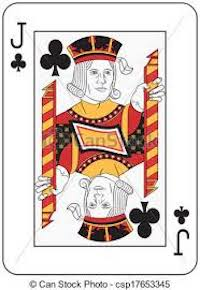JackOfClubs: (2, 3, 200, 278)
